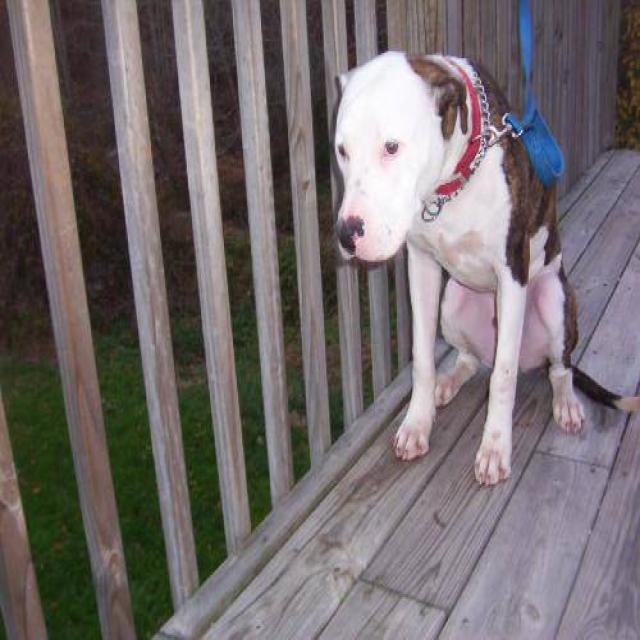sad: (310, 22, 640, 484)
